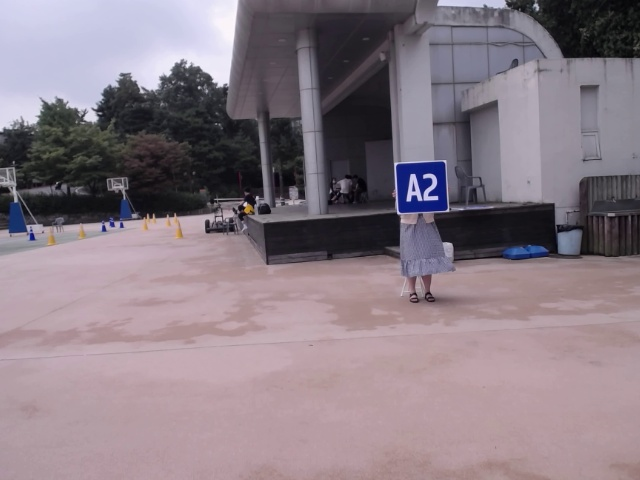delivery_a2: (394, 160, 449, 215)
